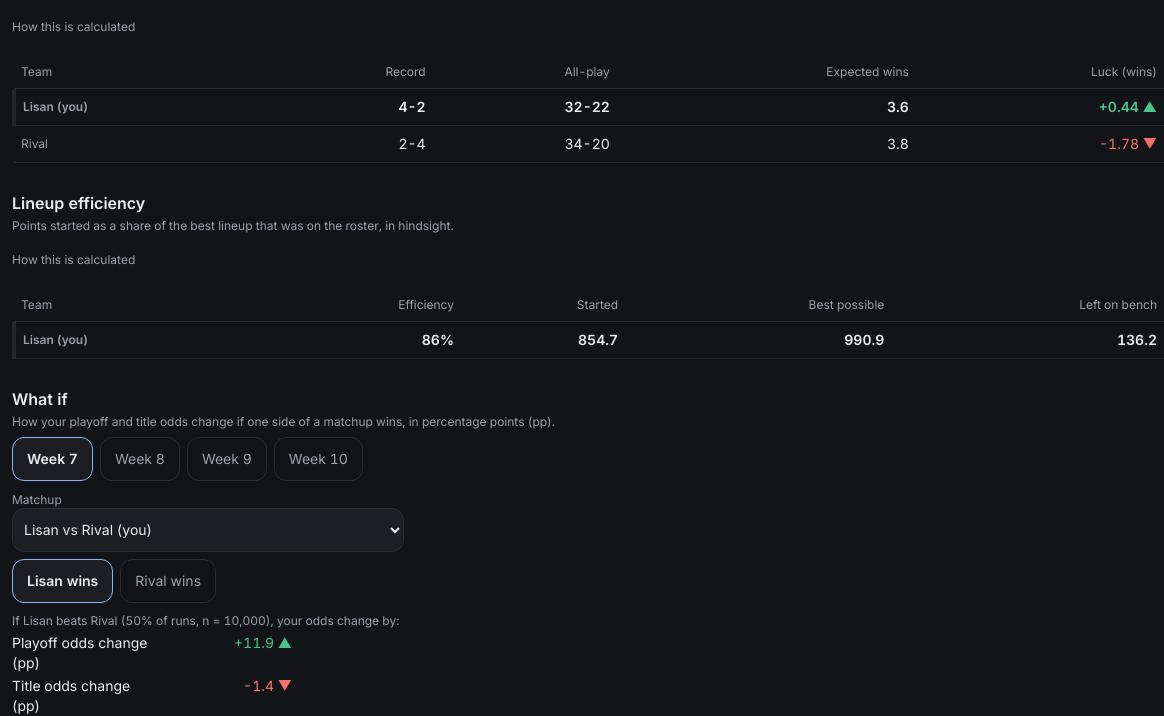
Test case: League page › what-if shows deltas for a well-sampled outcome and hides a thin one with a note
The width and height of the screenshot is (1164, 716).
(page scrolled)
Check: the text "+11.9 ▲" is shown, box left=234, top=634, right=292, bottom=651
Click the radio button labelled "Rival wins": {"x": 168, "y": 581} left=120, top=559, right=216, bottom=603
(page scrolled)
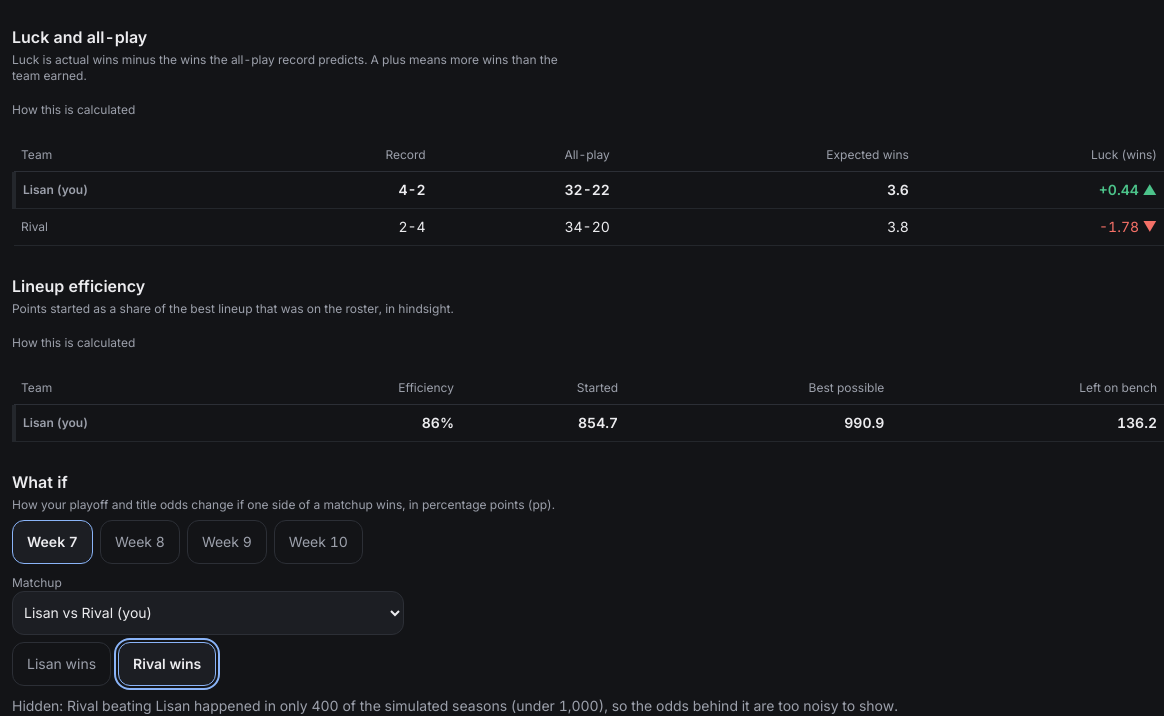
Check: the text "+11.9 ▲" is gone
Check: the text "only 400 of the simulated seasons" is shown, box left=12, top=697, right=898, bottom=714
